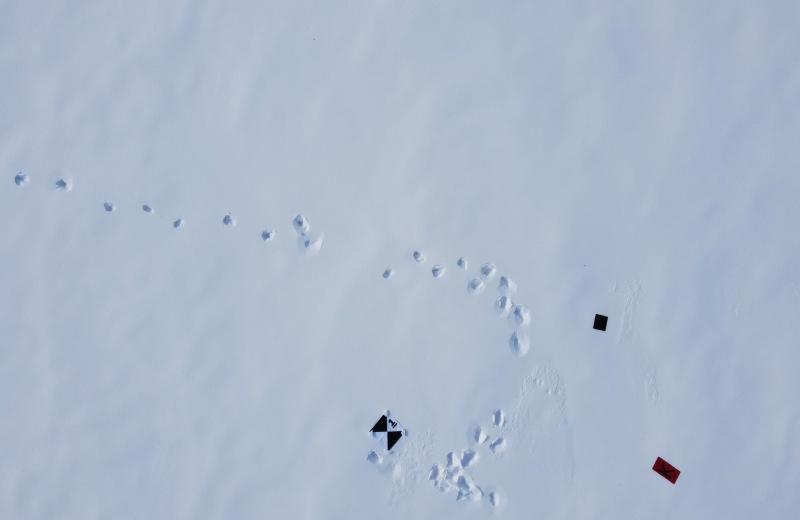Rectangle: (650, 454, 682, 487)
Square: (589, 311, 611, 335)
